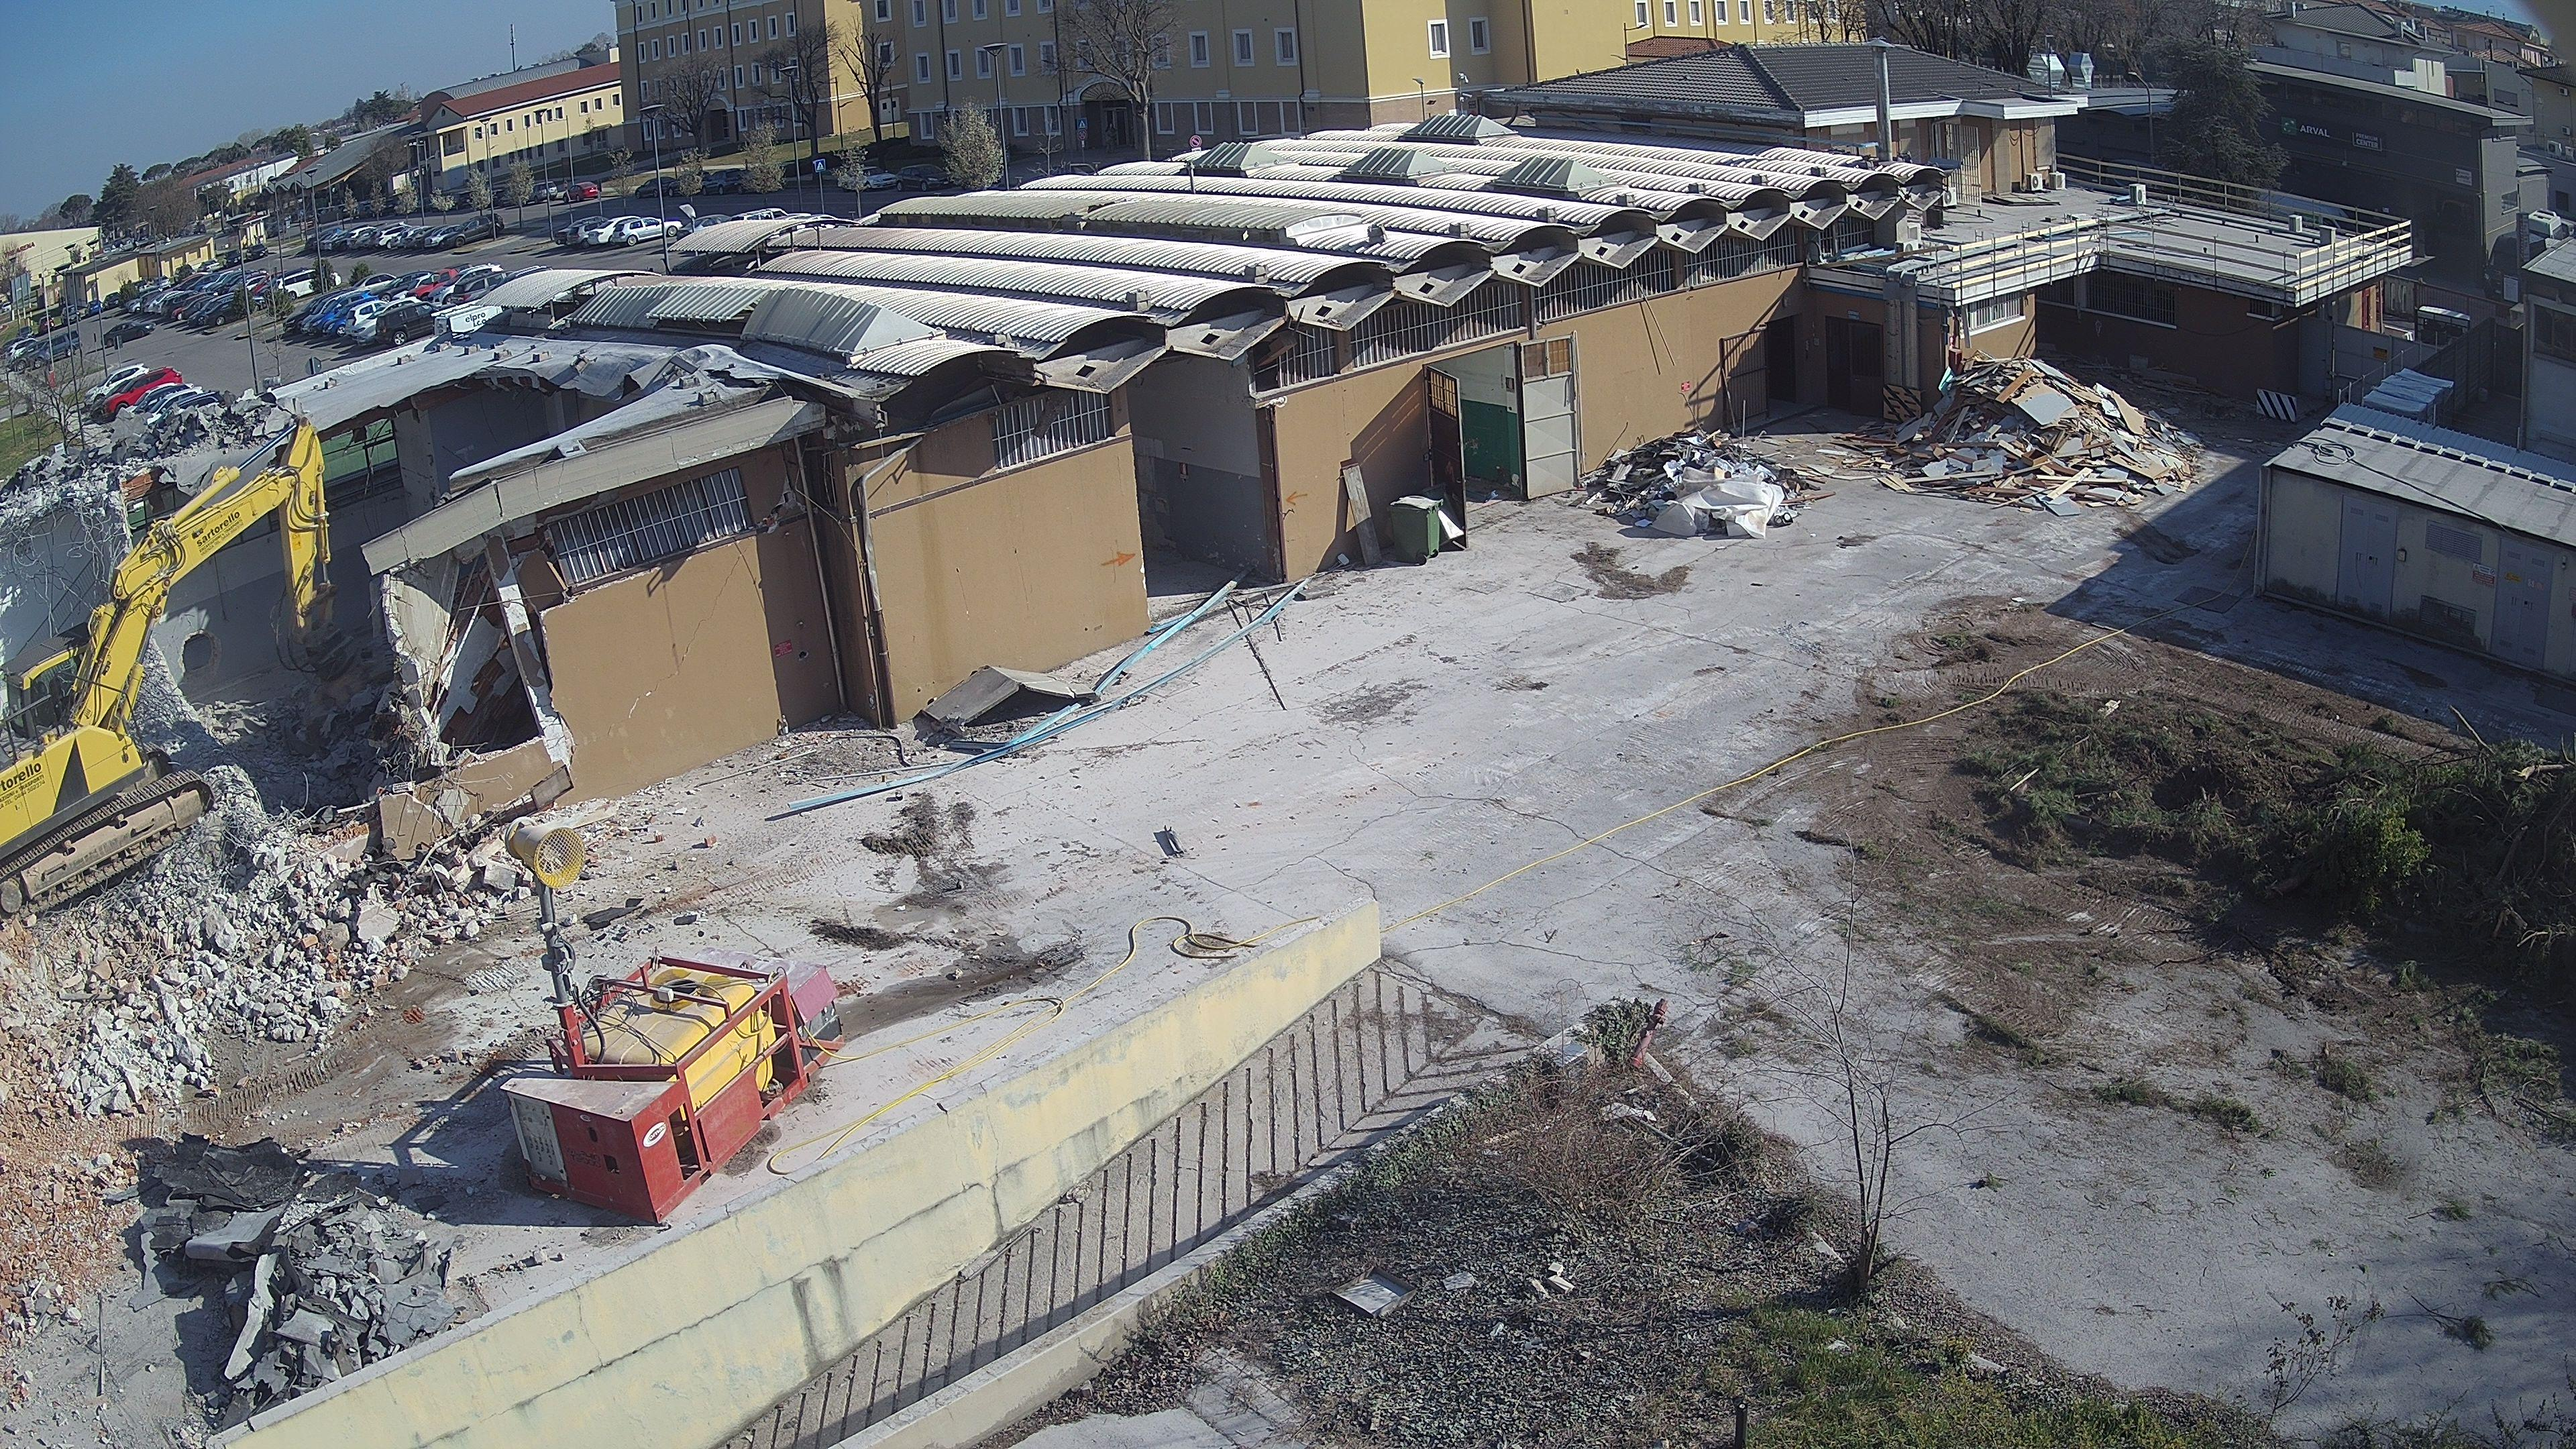Cars: (101, 366, 184, 412), (375, 301, 458, 347), (83, 363, 150, 407), (439, 212, 504, 248), (272, 269, 341, 301), (27, 329, 81, 368), (203, 295, 267, 327), (612, 218, 683, 246), (895, 163, 954, 191), (587, 216, 640, 246), (101, 322, 156, 347), (701, 168, 747, 195), (566, 221, 607, 248), (635, 175, 674, 196), (563, 182, 598, 202), (60, 304, 81, 326), (219, 249, 242, 267), (246, 244, 269, 262), (173, 264, 196, 281), (196, 258, 221, 272), (85, 299, 104, 317), (37, 315, 55, 333), (104, 292, 124, 308)
excavator: (0, 416, 370, 932)
